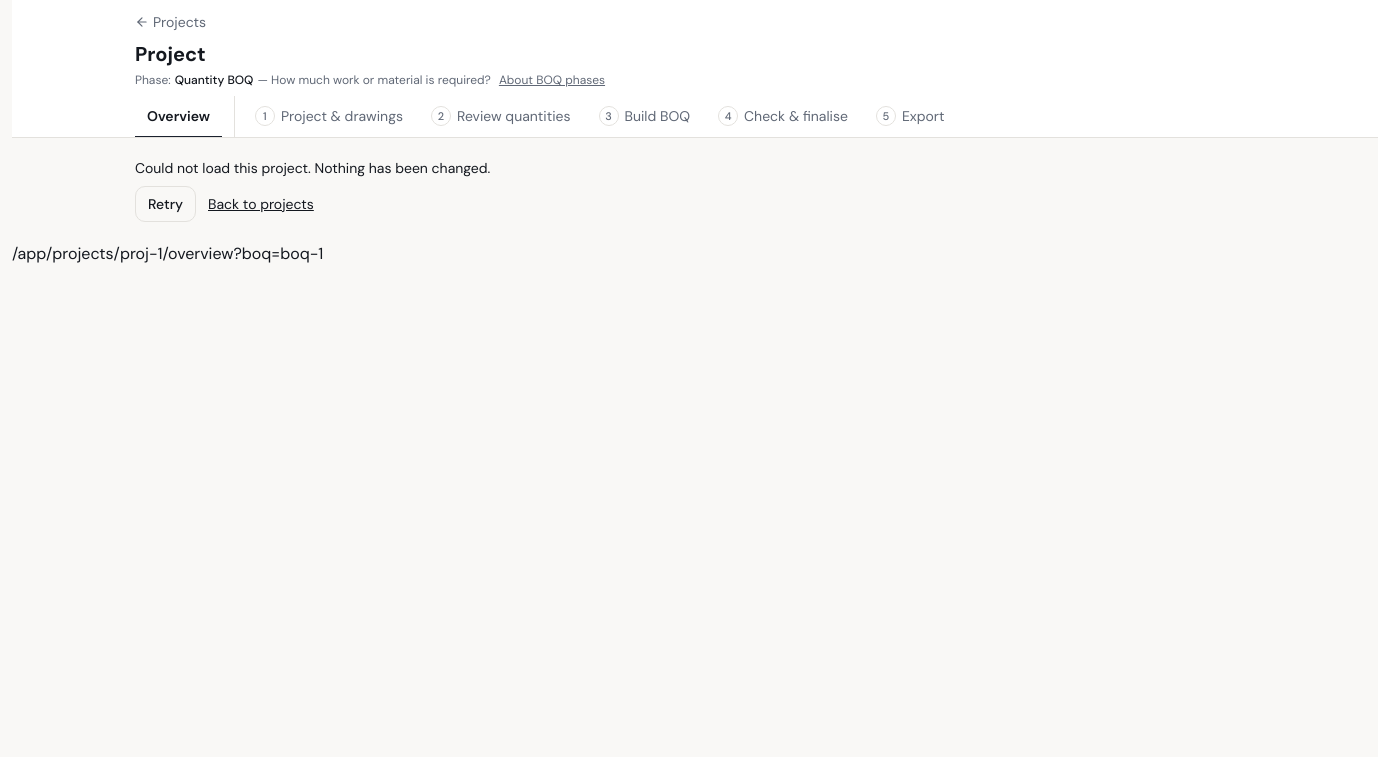
it: Journey — a failed read is an error with a way to recover, never a blank or a success › project read fails → error, Retry recovers
Expected: the message shows "Could not load this project. Nothing has been changed.", [135,159,490,177]
Click the button "Retry" at (166, 204), box [135,186,196,222]
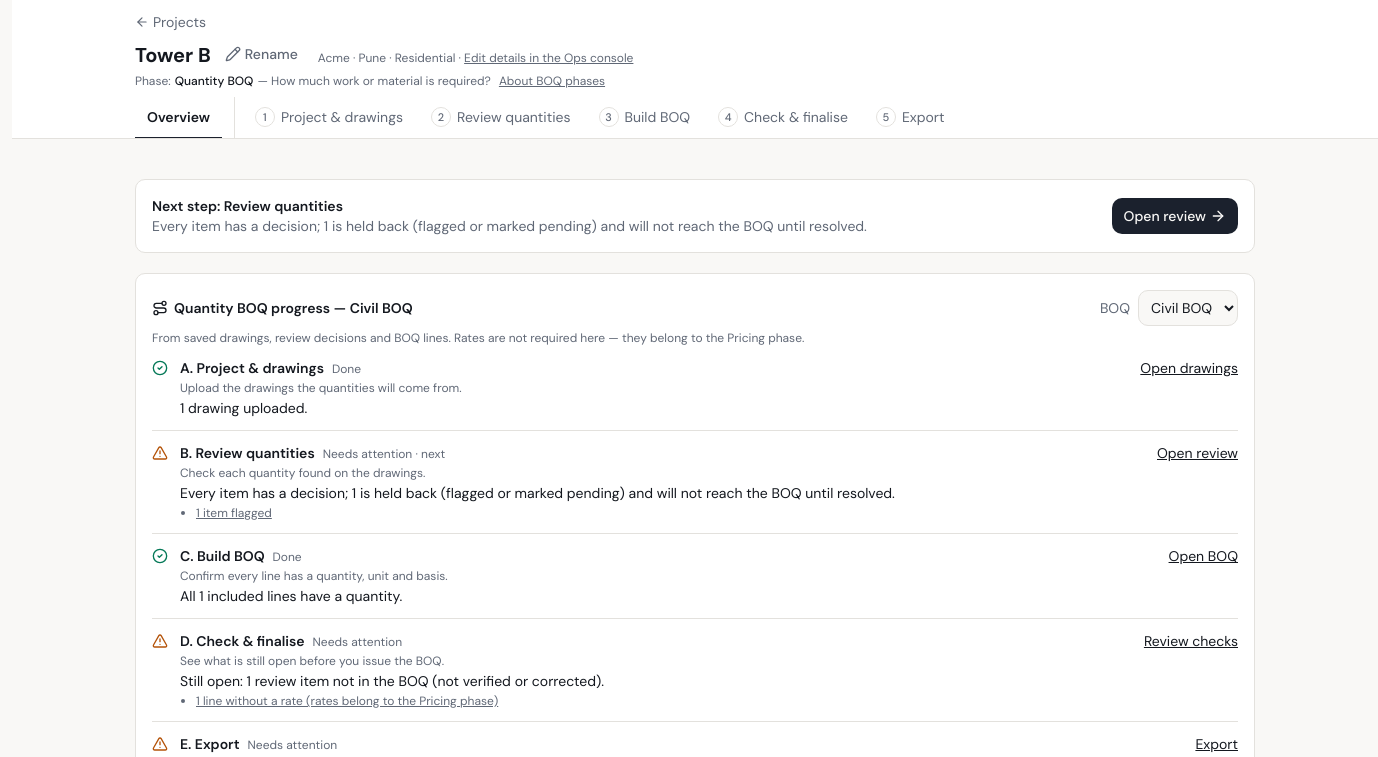
Expected: the heading "Tower B" is shown, [135,41,211,69]
Expected: the heading "Next step: Review quantities" is shown, [152,197,343,215]
